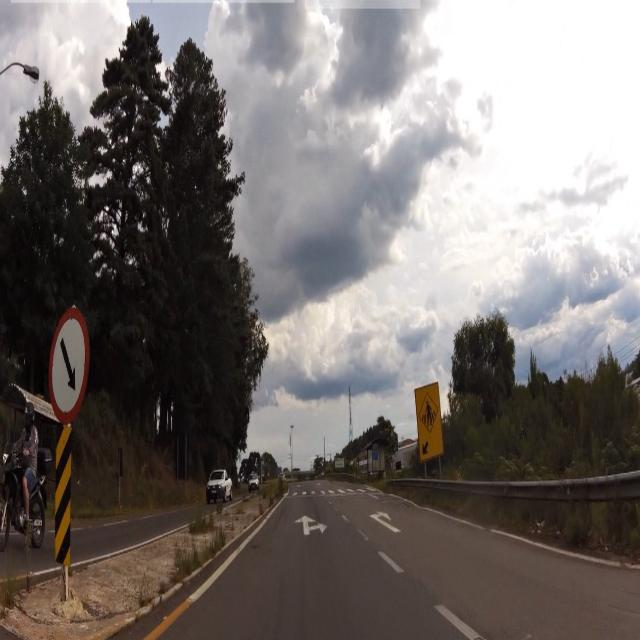MP: (52, 422, 78, 562)
R-24b: (49, 308, 91, 429)
